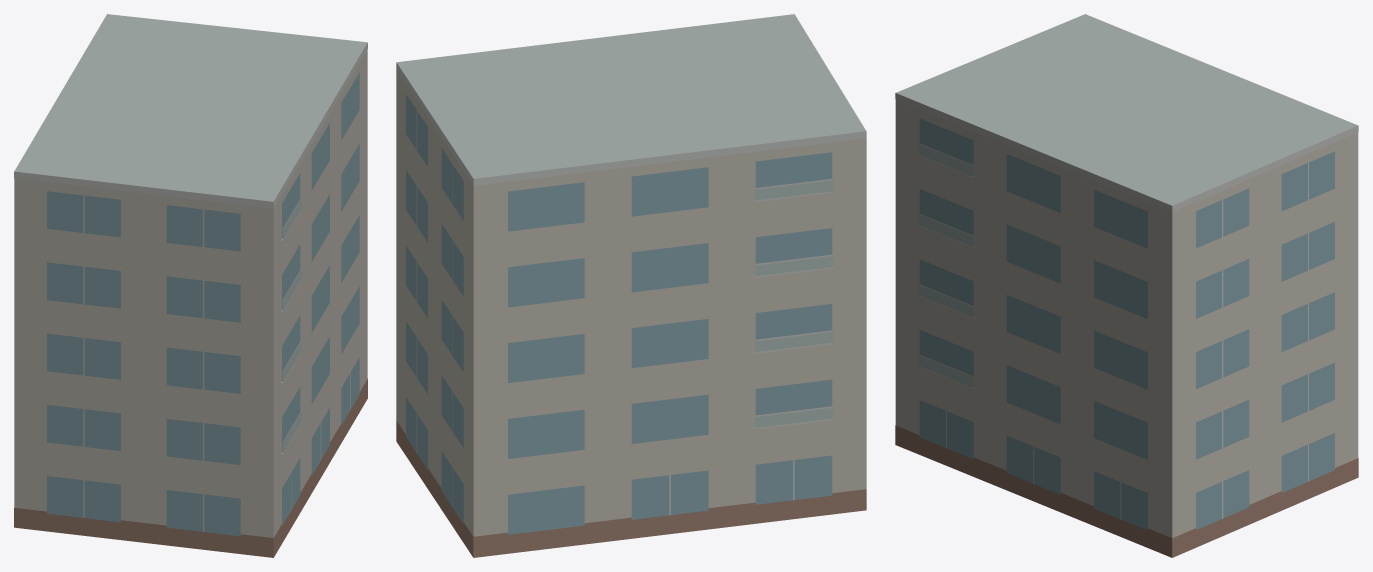
File: survey-upis-32882896.glb
The picture shows the model from 3 angles, left to right: view 1: azimuth 30°, elevation 25°; view 2: azimuth 150°, elevation 25°; view 3: azimuth 270°, elevation 25°; orthographic projection. The views are drawn at different scales.
Parts seen in each view (by area): view 1: survey-upis-32882896.tmp; view 2: survey-upis-32882896.tmp; view 3: survey-upis-32882896.tmp.
Boxes of the visible parts, bbox=[...] form: survey-upis-32882896.tmp: bbox=[14, 14, 367, 557]; survey-upis-32882896.tmp: bbox=[396, 14, 866, 557]; survey-upis-32882896.tmp: bbox=[895, 14, 1358, 557].
Bounding box in the file's own units: 15.2 × 13 × 15.5.
